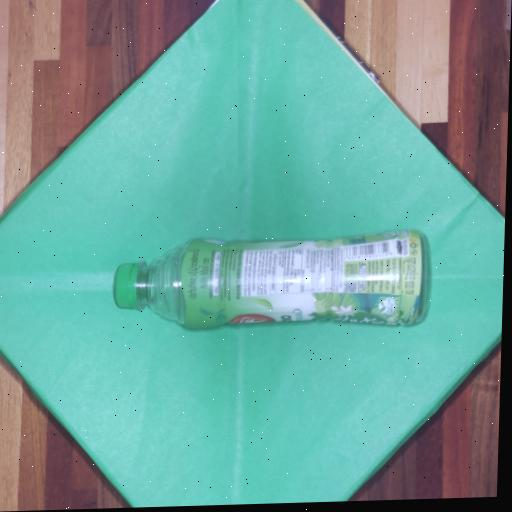bottle: (112, 229, 430, 334)
